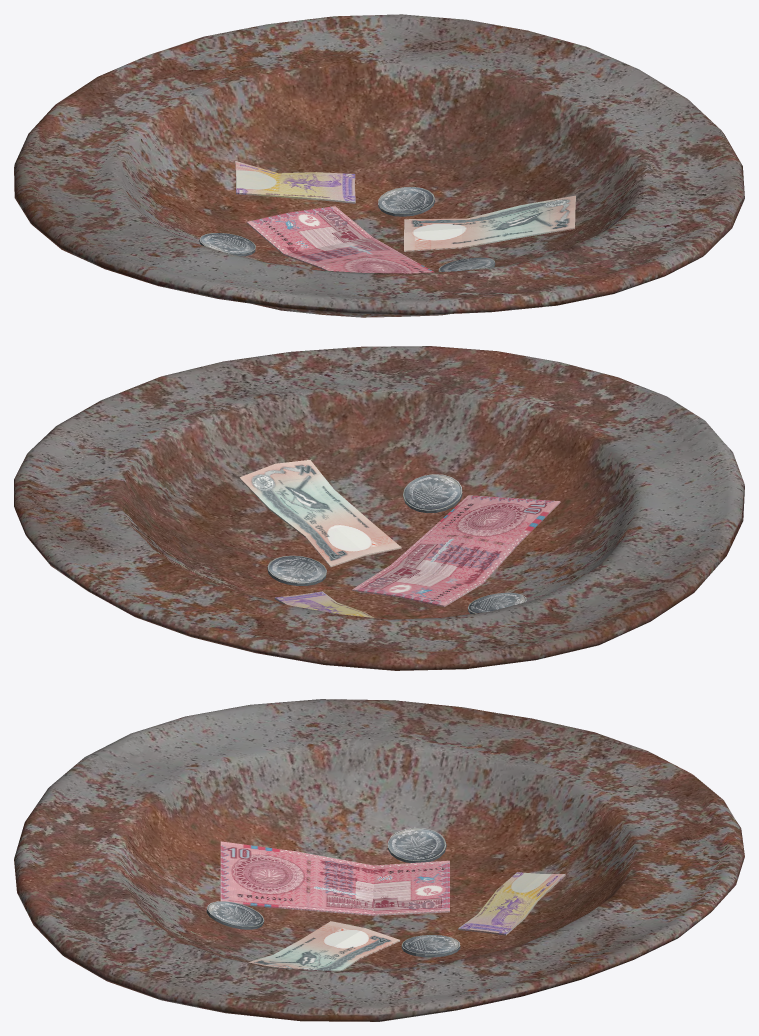
File: vikkhar-thali.glb
The picture shows the model from 3 angles, top to bottom: view 1: azimuth 30°, elevation 25°; view 2: azimuth 150°, elevation 25°; view 3: azimuth 270°, elevation 25°; orthographic projection. The views are drawn at different scales.
Visible parts, largest first — view 1: Thali, 10 taka, 2 taka, 1 taka, paisa.003, paisa.001, paisa.002; view 2: Thali, 10 taka, 2 taka, paisa.002, paisa.003, 1 taka, paisa.001; view 3: Thali, 10 taka, 2 taka, 1 taka, paisa.001, paisa.002, paisa.003.
Boxes of the visible parts, left/top/right/bottom form: Thali: left=14, top=14, right=744, bottom=317; 10 taka: left=246, top=206, right=434, bottom=273; 2 taka: left=404, top=195, right=575, bottom=251; 1 taka: left=235, top=161, right=355, bottom=203; paisa.003: left=378, top=187, right=435, bottom=216; paisa.001: left=199, top=233, right=255, bottom=256; paisa.002: left=438, top=257, right=495, bottom=271; Thali: left=14, top=346, right=744, bottom=670; 10 taka: left=352, top=495, right=560, bottom=607; 2 taka: left=239, top=460, right=401, bottom=567; paisa.002: left=403, top=474, right=462, bottom=513; paisa.003: left=267, top=555, right=326, bottom=585; 1 taka: left=274, top=591, right=373, bottom=617; paisa.001: left=468, top=592, right=526, bottom=613; Thali: left=14, top=699, right=744, bottom=1021; 10 taka: left=220, top=841, right=449, bottom=915; 2 taka: left=248, top=921, right=400, bottom=970; 1 taka: left=458, top=872, right=565, bottom=935; paisa.001: left=388, top=827, right=446, bottom=862; paisa.002: left=206, top=901, right=264, bottom=929; paisa.003: left=401, top=935, right=460, bottom=957.
Size of the model in its own units: 0.2395 by 0.0336 by 0.2368.
Materials: 5 (5 with a texture image).
